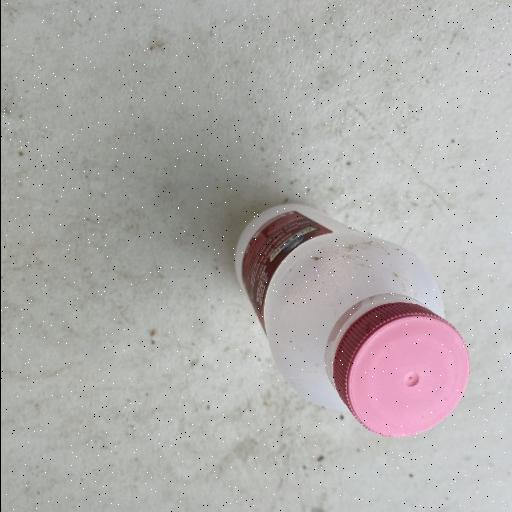Plastic: (230, 198, 474, 440)
